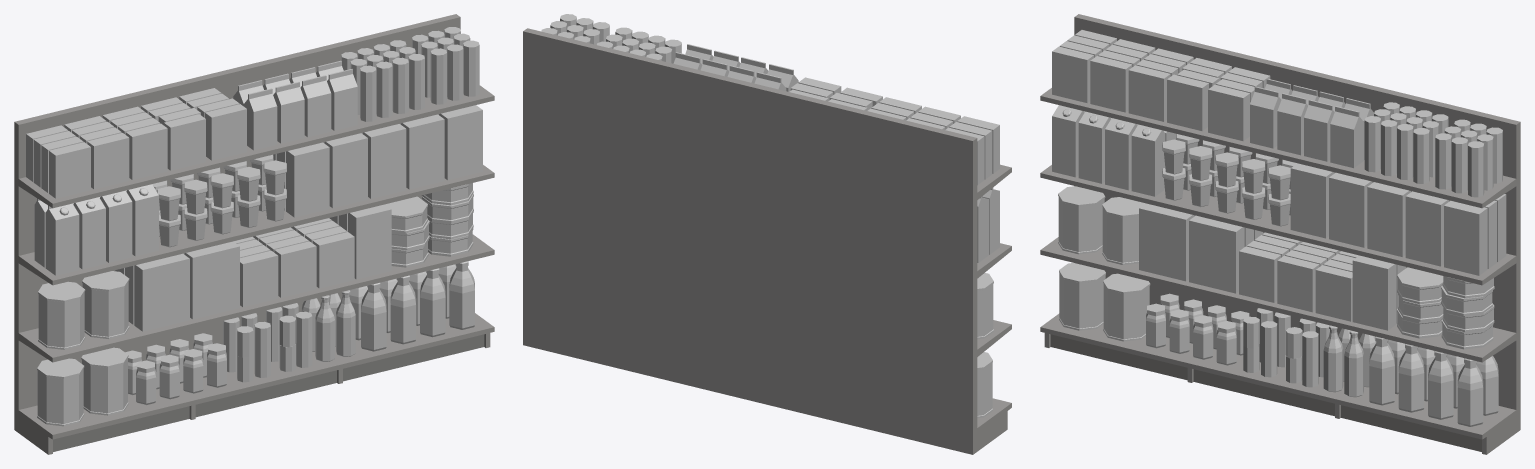
Rendered from SM_Props_Interior_SuperMarket_Shelves_Large_Preset_02.fbx.
3 renders of one model, left to right at view 1: azimuth 30°, elevation 25°; view 2: azimuth 150°, elevation 25°; view 3: azimuth 330°, elevation 25°, orthographic.
Parts seen in each view (by area): view 1: SM_Props_Interior_SuperMarket_Shelves_Large_Preset_02_Produc, SM_Props_Interior_SuperMarket_Shelves_Large_Preset_02; view 2: SM_Props_Interior_SuperMarket_Shelves_Large_Preset_02, SM_Props_Interior_SuperMarket_Shelves_Large_Preset_02_Produc; view 3: SM_Props_Interior_SuperMarket_Shelves_Large_Preset_02_Produc, SM_Props_Interior_SuperMarket_Shelves_Large_Preset_02.
Boxes of the visible parts, x1,y1,x2,y2 form: SM_Props_Interior_SuperMarket_Shelves_Large_Preset_02_Produc: [26, 27, 482, 426]; SM_Props_Interior_SuperMarket_Shelves_Large_Preset_02: [14, 14, 494, 454]; SM_Props_Interior_SuperMarket_Shelves_Large_Preset_02: [523, 28, 1011, 454]; SM_Props_Interior_SuperMarket_Shelves_Large_Preset_02_Produc: [541, 14, 999, 418]; SM_Props_Interior_SuperMarket_Shelves_Large_Preset_02_Produc: [1052, 30, 1506, 426]; SM_Props_Interior_SuperMarket_Shelves_Large_Preset_02: [1040, 14, 1520, 454].
Bounding box in the file's own units: 300 × 200 × 45.
